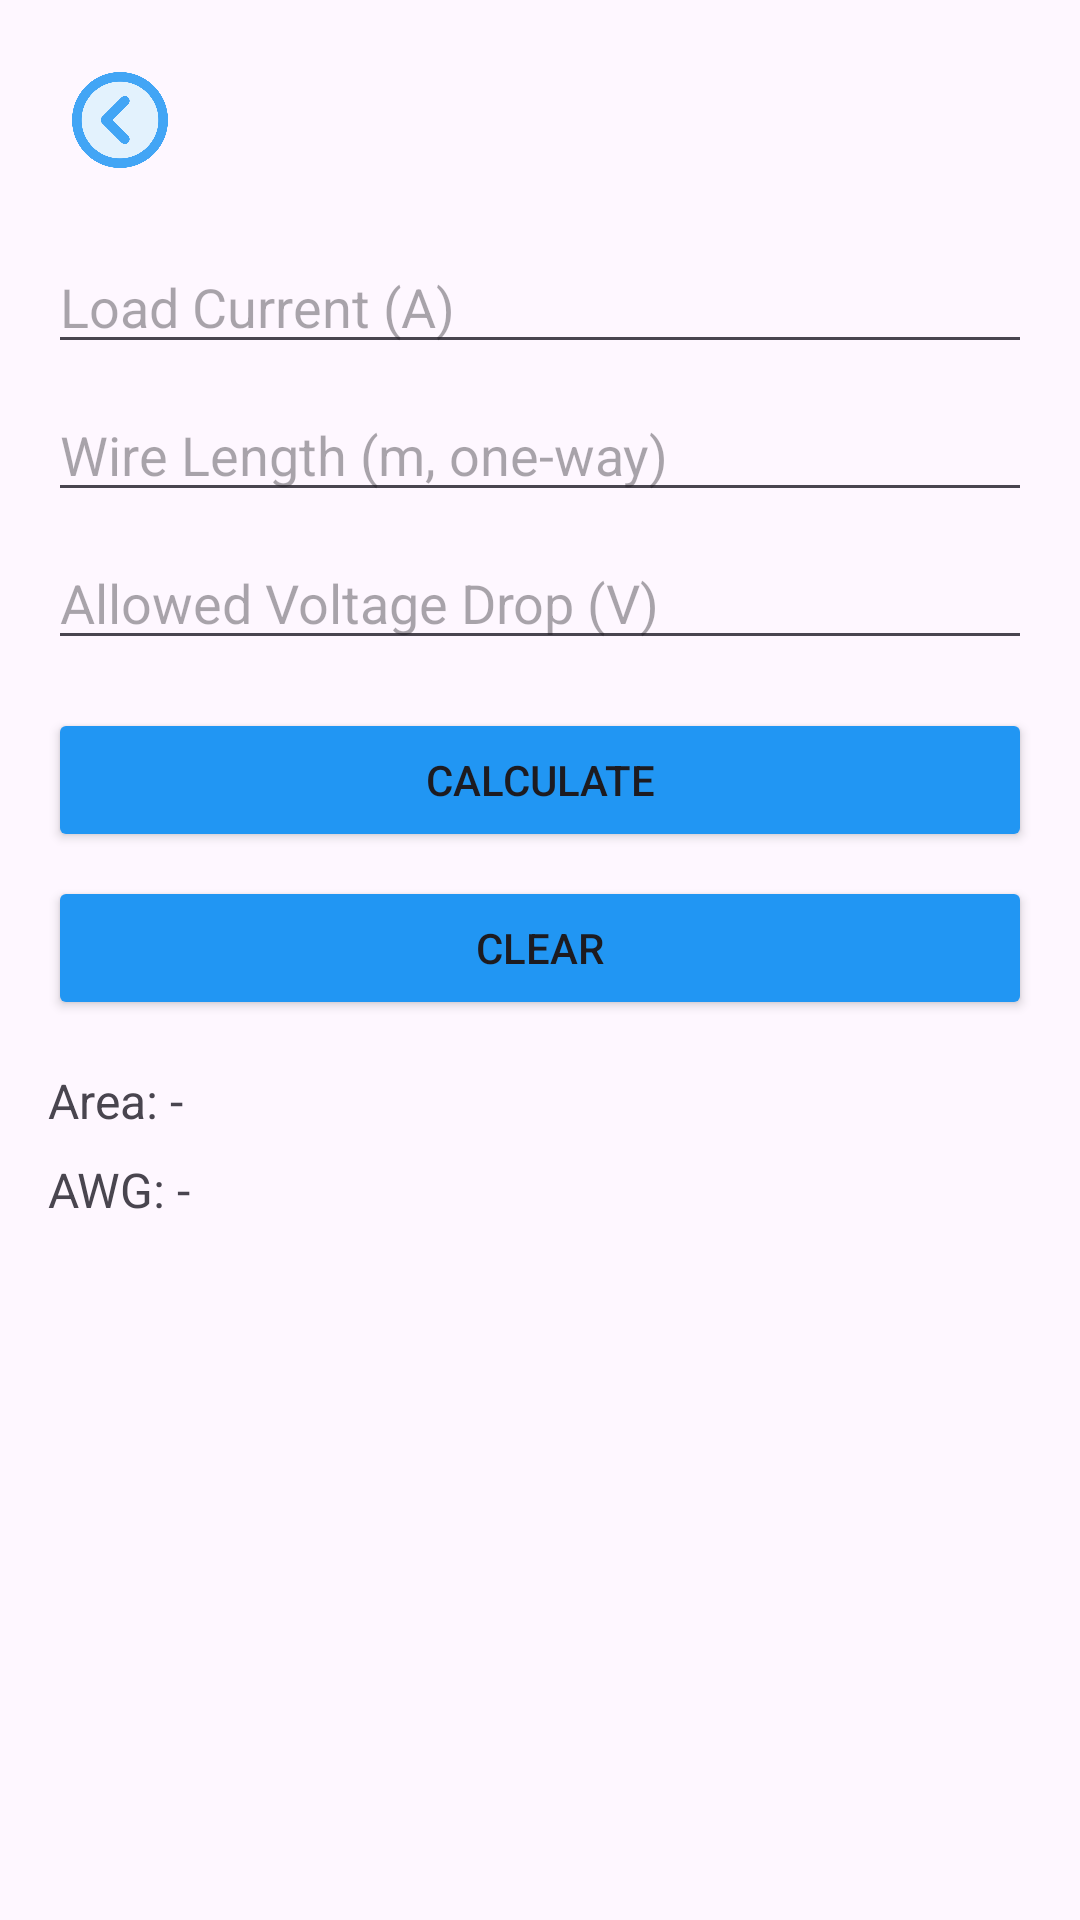

Where to tap for icons on this 1080px x 1920px app screen, as (x,y):
Go Back: (120,120)
